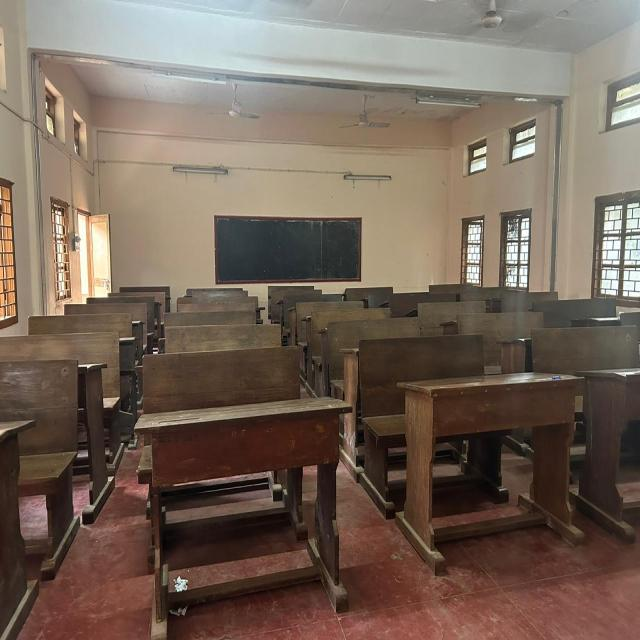Table ahead at: (133, 387, 353, 638), (398, 364, 584, 572), (358, 327, 516, 528), (0, 320, 127, 476), (0, 357, 84, 578), (159, 321, 283, 354)
